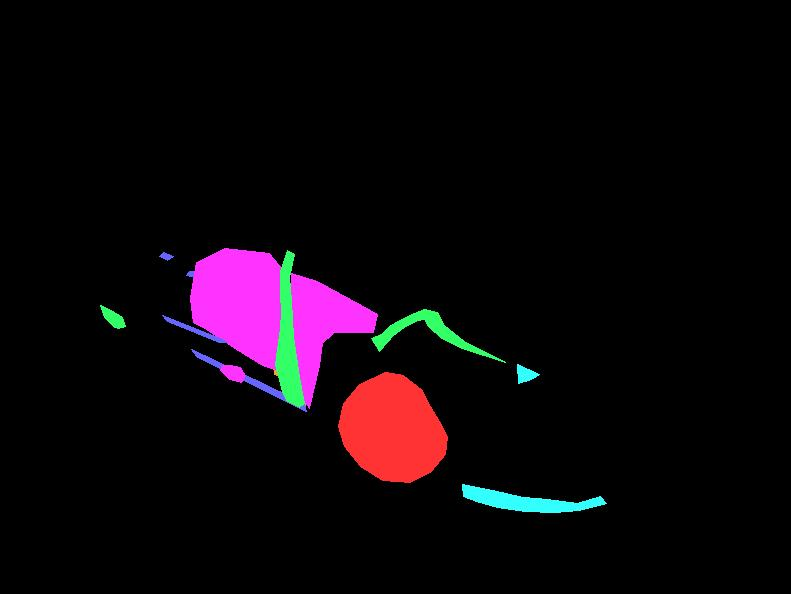Broken part: (371, 309, 505, 362), (275, 250, 304, 407), (100, 305, 125, 328)
Dent: (290, 273, 377, 408), (190, 248, 285, 371), (220, 365, 245, 382)
Flaking: (462, 484, 606, 512), (517, 364, 539, 383)
Missing part: (338, 372, 447, 482)
Paint chip: (265, 321, 285, 377), (291, 367, 310, 405), (269, 274, 288, 307)
Scratch: (191, 349, 306, 411), (162, 315, 227, 342), (159, 252, 173, 260), (186, 271, 197, 277)
